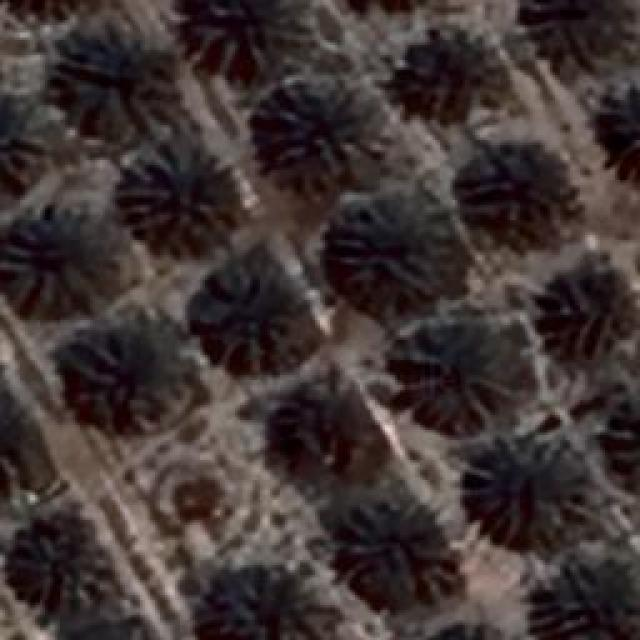PalmTree: (33, 100, 623, 440), (117, 142, 240, 248), (198, 261, 310, 374), (460, 430, 570, 545), (0, 201, 112, 313), (58, 25, 174, 133), (398, 325, 510, 435), (60, 328, 185, 426), (340, 502, 450, 608), (335, 195, 445, 298), (264, 91, 368, 184), (274, 384, 376, 478), (465, 142, 555, 245), (210, 570, 340, 638), (524, 0, 634, 75), (552, 265, 638, 355), (192, 0, 302, 70), (545, 560, 640, 640), (405, 34, 493, 108), (18, 530, 108, 602), (0, 392, 41, 497), (0, 92, 42, 194), (411, 618, 522, 640), (68, 619, 172, 640), (0, 0, 103, 18), (412, 623, 519, 640), (66, 625, 176, 640)
